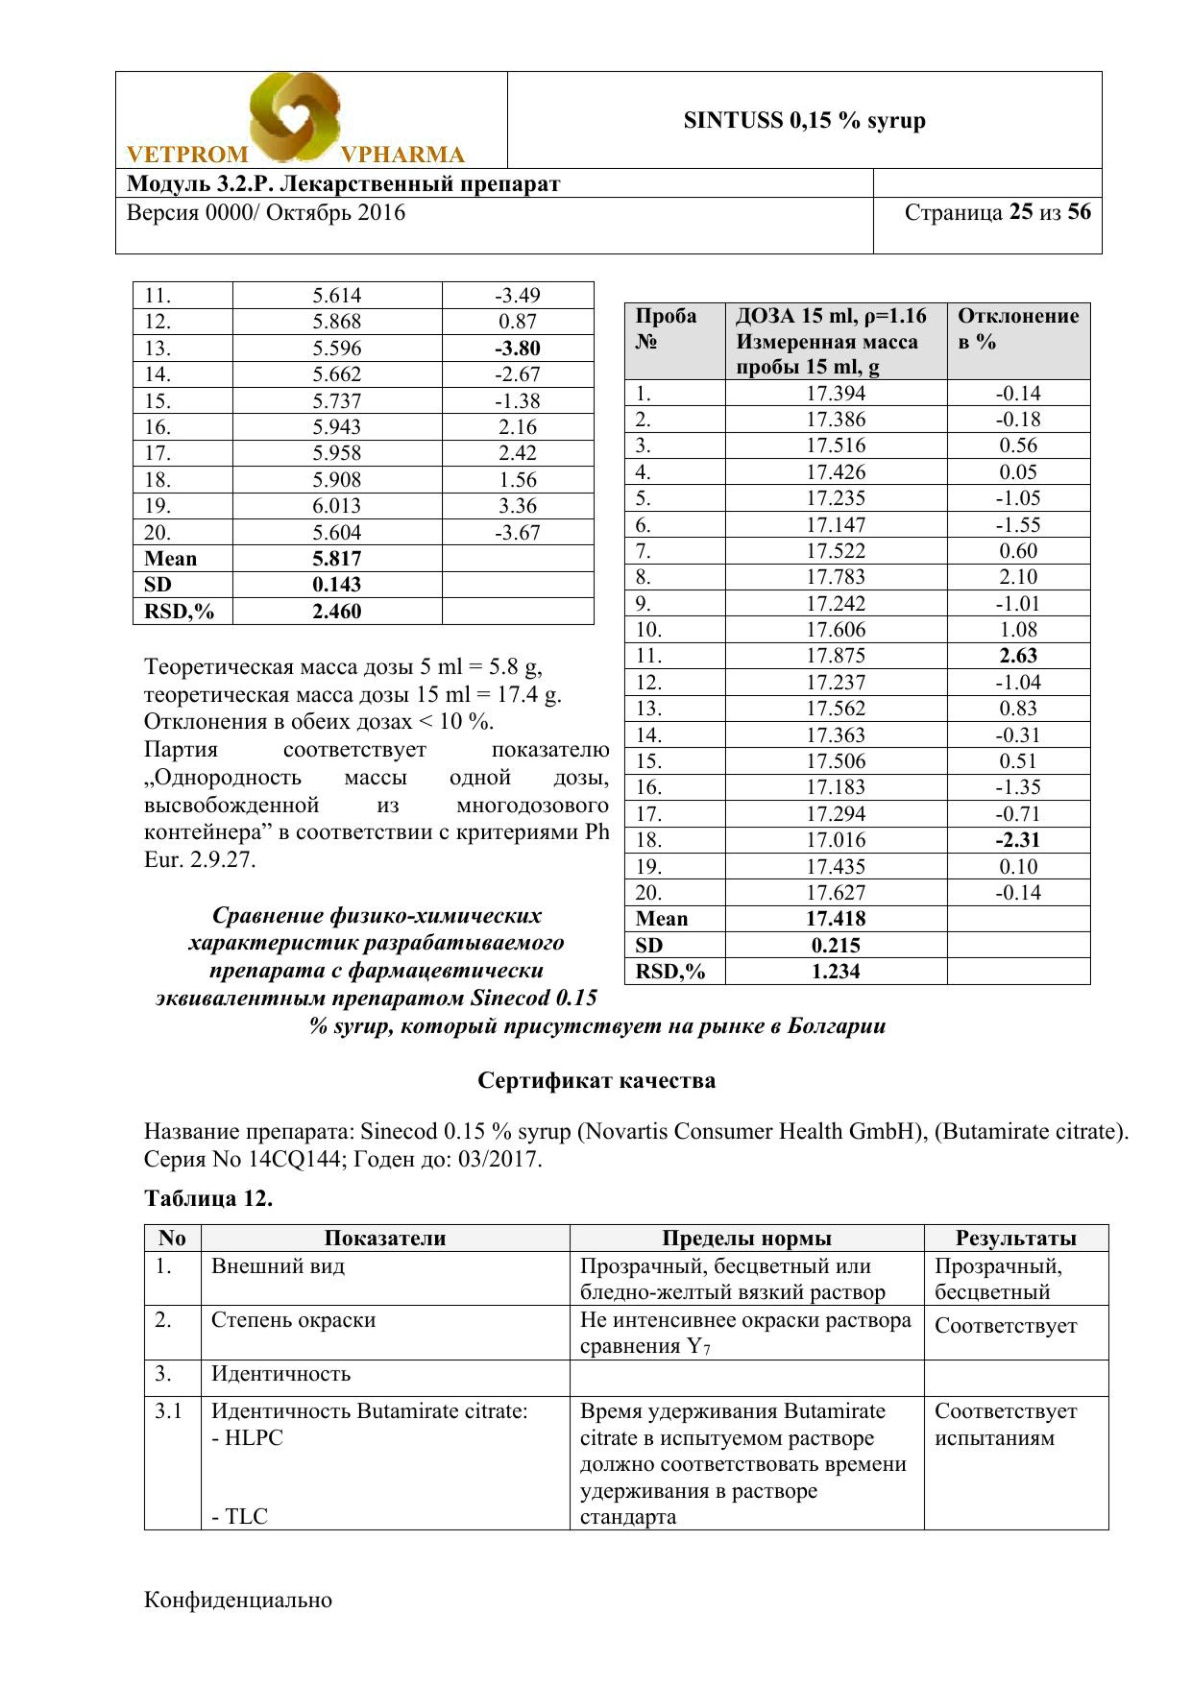full_lined: (623, 302, 1091, 984), (143, 1223, 1109, 1531), (132, 280, 595, 626)
merged_cells: (114, 70, 1103, 255)
